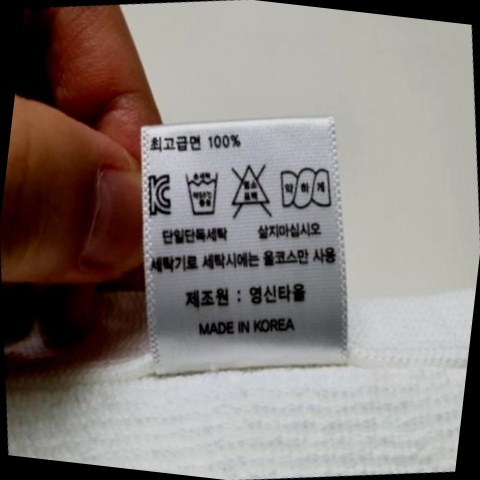hand_wash: (178, 165, 232, 225)
non_chlorine_bleach: (221, 154, 282, 226)
wring: (272, 160, 338, 217)
